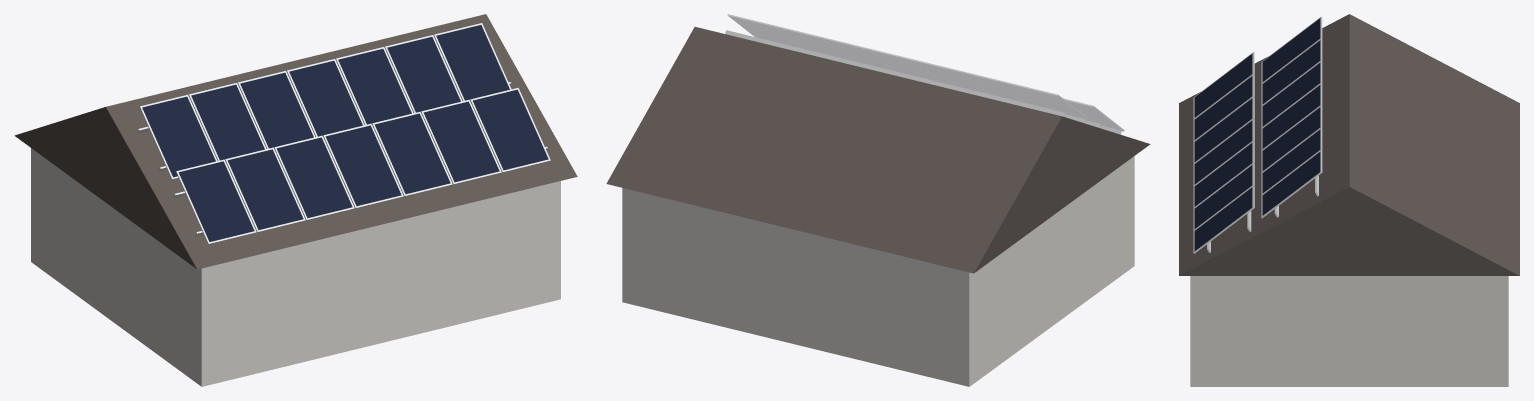
3 views of the same model, side by side, from view 1: azimuth 30°, elevation 25°; view 2: azimuth 150°, elevation 25°; view 3: azimuth 270°, elevation 25° (orthographic). The views are drawn at different scales.
Visible parts, largest first — view 1: wall.1, roof.1, cell.1, cell.2, cell.3, cell.4, cell.7, cell.6, cell.5, cell.8, cell.10, cell.11 (+12 smaller); view 2: roof.1, wall.1, metal.4, metal.108, metal.114, metal.113, metal.109, metal.110, metal.111, metal.112, metal.101; view 3: roof.1, wall.1, cell.13, cell.1, cell.9, cell.14, cell.3, cell.4, cell.10, cell.12, cell.2, cell.5 (+6 smaller).
Boxes of the visible parts, bbox=[...] form: wall.1: bbox=[31, 148, 560, 386]; roof.1: bbox=[14, 14, 577, 269]; cell.1: bbox=[178, 161, 254, 241]; cell.2: bbox=[227, 149, 303, 229]; cell.3: bbox=[276, 137, 352, 218]; cell.4: bbox=[325, 125, 401, 206]; cell.7: bbox=[473, 89, 548, 170]; cell.6: bbox=[423, 101, 499, 182]; cell.5: bbox=[374, 113, 450, 194]; cell.8: bbox=[142, 96, 215, 177]; cell.10: bbox=[240, 72, 313, 148]; cell.11: bbox=[289, 61, 362, 139]; roof.1: bbox=[606, 27, 1150, 273]; wall.1: bbox=[622, 156, 1134, 386]; metal.4: bbox=[725, 30, 1065, 116]; metal.108: bbox=[1011, 83, 1089, 120]; metal.114: bbox=[727, 14, 801, 48]; metal.113: bbox=[774, 25, 848, 59]; metal.109: bbox=[964, 72, 1038, 106]; metal.110: bbox=[916, 60, 990, 94]; metal.111: bbox=[869, 48, 943, 82]; metal.112: bbox=[822, 37, 896, 71]; metal.101: bbox=[1063, 98, 1124, 131]; roof.1: bbox=[1179, 14, 1519, 275]; wall.1: bbox=[1190, 276, 1508, 386]; cell.13: bbox=[1262, 129, 1320, 193]; cell.1: bbox=[1194, 54, 1252, 117]; cell.9: bbox=[1262, 40, 1320, 103]; cell.14: bbox=[1262, 152, 1320, 215]; cell.3: bbox=[1194, 98, 1252, 161]; cell.4: bbox=[1194, 121, 1252, 184]; cell.10: bbox=[1262, 63, 1320, 126]; cell.12: bbox=[1262, 107, 1320, 170]; cell.2: bbox=[1194, 76, 1252, 139]; cell.5: bbox=[1194, 143, 1252, 206].
Bounding box in the file's own units: 8.96 × 5.11 × 7.47.
